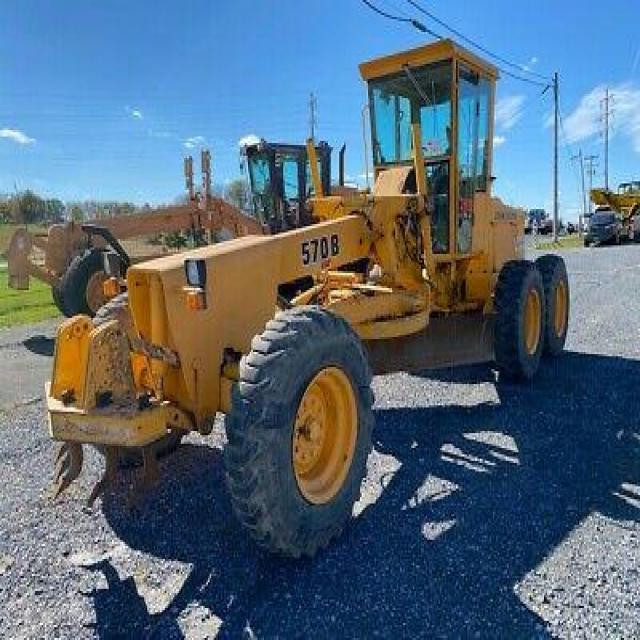Grader: (42, 38, 574, 561)
